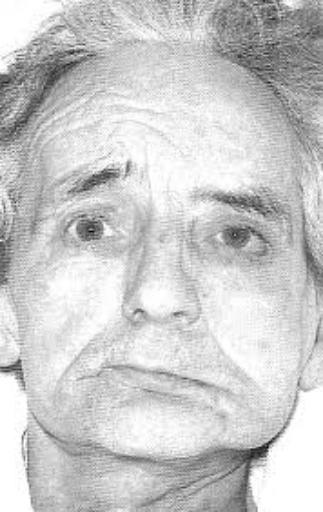left_eye: (202, 219, 275, 258)
left_lip_corner: (198, 369, 224, 397)
right_eye: (59, 209, 122, 246)
right_lip_corner: (96, 355, 130, 379)
